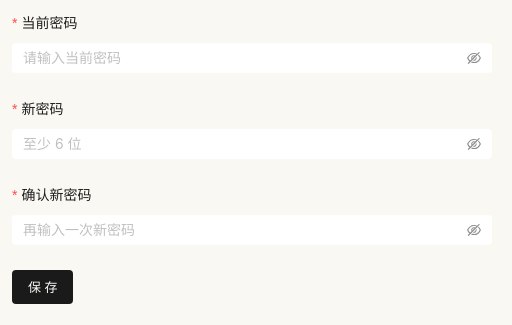
Scenario: <ChangePasswordForm /> › confirmPassword !== newPassword is rejected
In the password field with placeholder "请输入当前密码": (243, 58) 23,47 -> 463,69, type "oldpass1"
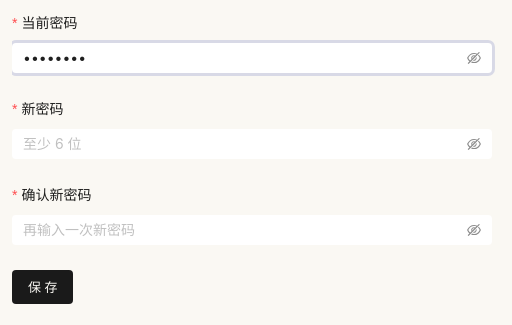
In the password field with placeholder "至少 6 位": (243, 144) 23,133 -> 463,155, type "newpass2"
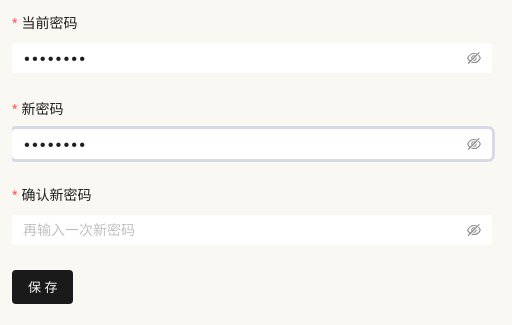
In the password field with placeholder "再输入一次新密码": (243, 230) 23,219 -> 463,241, type "different"
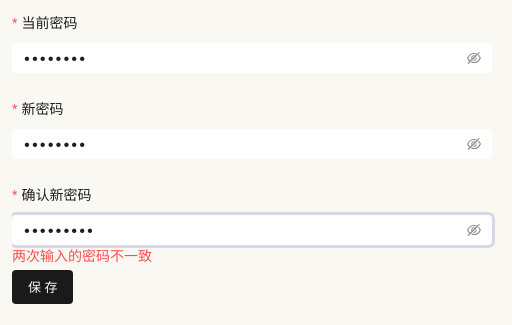
Click the button "保 存": click(43, 287) 12,270 -> 74,304
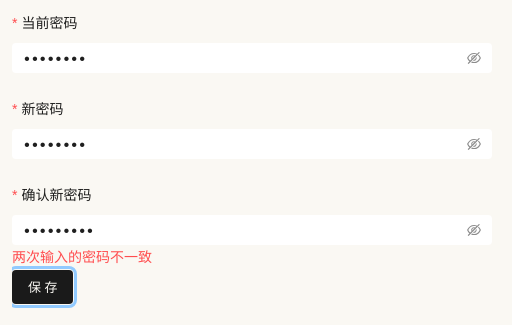
Now the text "两次输入的密码不一致" is shown, box 12,248 -> 152,265
